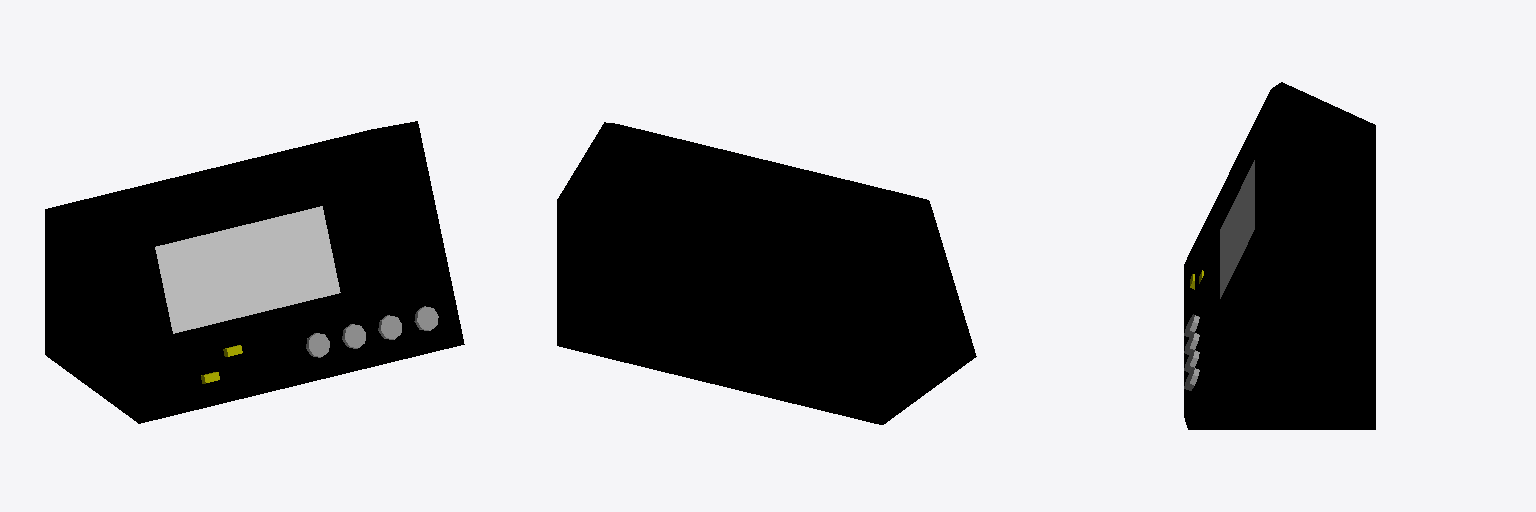
File: petitReveil.obj
3 renders of one model, left to right at view 1: azimuth 30°, elevation 25°; view 2: azimuth 150°, elevation 25°; view 3: azimuth 270°, elevation 25°, orthographic.
Parts seen in each view (by area): view 1: corps, sweethome3d_window_pane; view 2: corps; view 3: corps, sweethome3d_window_pane.
Boxes of the visible parts, box(x1,y1,x2,y2) form: corps: box(45, 121, 464, 423); sweethome3d_window_pane: box(155, 206, 340, 333); corps: box(557, 122, 976, 424); corps: box(1184, 82, 1375, 429); sweethome3d_window_pane: box(1220, 160, 1254, 298).
Bounding box in the file's own units: 9 × 5 × 4.6.